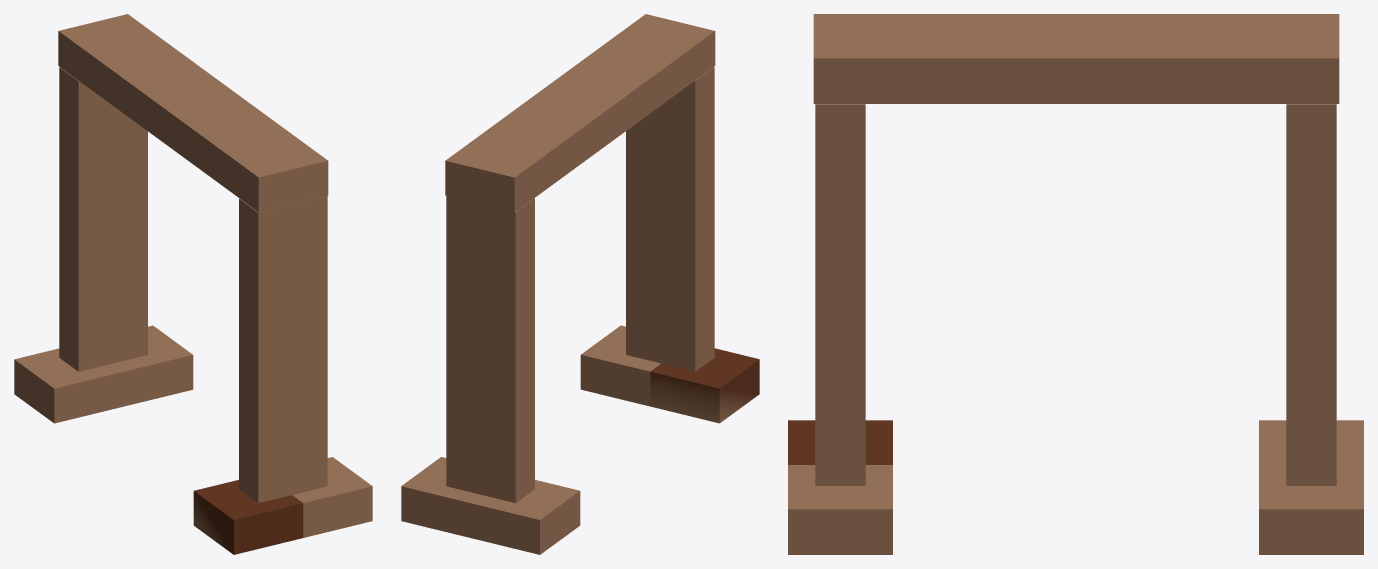
The picture shows the model from 3 angles, left to right: view 1: azimuth 30°, elevation 25°; view 2: azimuth 150°, elevation 25°; view 3: azimuth 270°, elevation 25°; orthographic projection. The views are drawn at different scales.
Parts seen in each view (by area): view 1: Cube.010, Cube.003, Cube.001, Cube.007, Cube.005, Cube.006, Cube.002, Cube, Cube.009, Cube.016, Cube.004, Cube.013 (+5 smaller); view 2: Cube.014, Cube.005, Cube.001, Cube, Cube.002, Cube.004, Cube.007, Cube.006, Cube.016, Cube.009, Cube.003, Cube.011 (+5 smaller); view 3: Cube.010, Cube.014, Cube.011, Cube.012, Cube.013, Cube.008, Cube.015, Cube.003, Cube.004, Cube.001, Cube.002, Cube.005 (+5 smaller).
Boxes of the visible parts, x1,y1,x2,y2 form: Cube.010: (218,131,328,212); Cube.003: (239,195,327,285); Cube.001: (239,341,327,430); Cube.007: (59,282,147,371); Cube.005: (59,137,147,226); Cube.006: (59,209,147,298); Cube.002: (239,268,327,357); Cube: (239,414,327,503); Cube.009: (193,480,303,554); Cube.016: (14,348,123,423); Cube.004: (59,67,147,153); Cube.013: (98,43,207,124); Cube.014: (445,131,554,212); Cube.005: (446,268,534,357); Cube.001: (626,209,714,298); Cube: (626,282,714,371); Cube.002: (626,137,714,226); Cube.004: (446,196,534,285); Cube.007: (446,413,534,503); Cube.006: (446,341,534,430); Cube.016: (470,480,580,554); Cube.009: (650,348,759,423); Cube.003: (626,67,714,153); Cube.011: (566,43,675,124); Cube.010: (813,14,918,103); Cube.014: (1234,14,1339,103); Cube.011: (918,14,1023,103); Cube.012: (1024,14,1128,103); Cube.013: (1129,14,1233,103); Cube.008: (1259,465,1363,554); Cube.015: (788,465,892,554); Cube.003: (815,104,865,200); Cube.004: (1286,104,1336,200); Cube.001: (815,295,865,390); Cube.002: (815,200,865,295); Cube.005: (1286,200,1336,295).
Bounding box in the file's own units: 400 × 996 × 1096.
